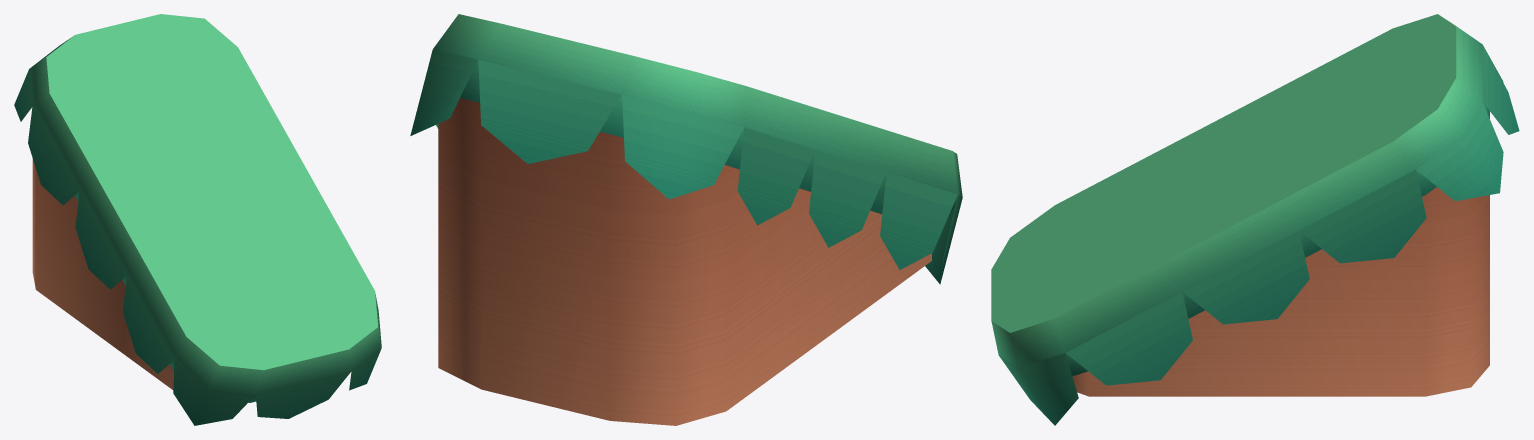
File: block-grass-overhang-large-slope-steep-narrow.glb
The picture shows the model from 3 angles, left to right: view 1: azimuth 30°, elevation 25°; view 2: azimuth 150°, elevation 25°; view 3: azimuth 270°, elevation 25°; orthographic projection. The views are drawn at different scales.
Visible parts, largest first — view 1: block-grass-overhang-large-slope-steep-narrow; view 2: block-grass-overhang-large-slope-steep-narrow; view 3: block-grass-overhang-large-slope-steep-narrow.
Boxes of the visible parts, box(x1,y1,x2,y2) form: block-grass-overhang-large-slope-steep-narrow: box(14, 14, 381, 425); block-grass-overhang-large-slope-steep-narrow: box(410, 14, 962, 425); block-grass-overhang-large-slope-steep-narrow: box(991, 14, 1519, 425).
Size of the model in its own units: 1.08 by 1.37 by 1.97.
Materials: 1 (1 with a texture image).
